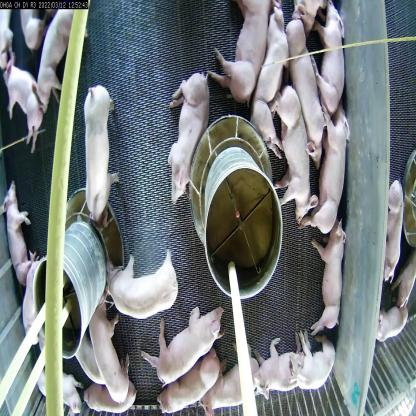Pig: (140, 300, 224, 391), (163, 64, 210, 214), (208, 0, 272, 105), (313, 91, 351, 247), (270, 82, 309, 227), (78, 74, 116, 218), (101, 258, 188, 319), (252, 10, 287, 160), (81, 296, 132, 397), (35, 14, 80, 115), (153, 346, 217, 416), (312, 221, 346, 349), (0, 48, 37, 140), (0, 190, 35, 280), (251, 342, 298, 403), (204, 360, 256, 415), (288, 333, 337, 390), (324, 10, 352, 108), (388, 182, 411, 292), (16, 261, 45, 335), (37, 368, 81, 415)
